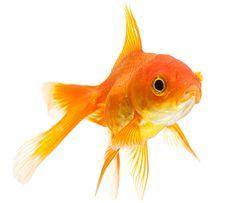goldfish: (50, 41, 216, 167)
